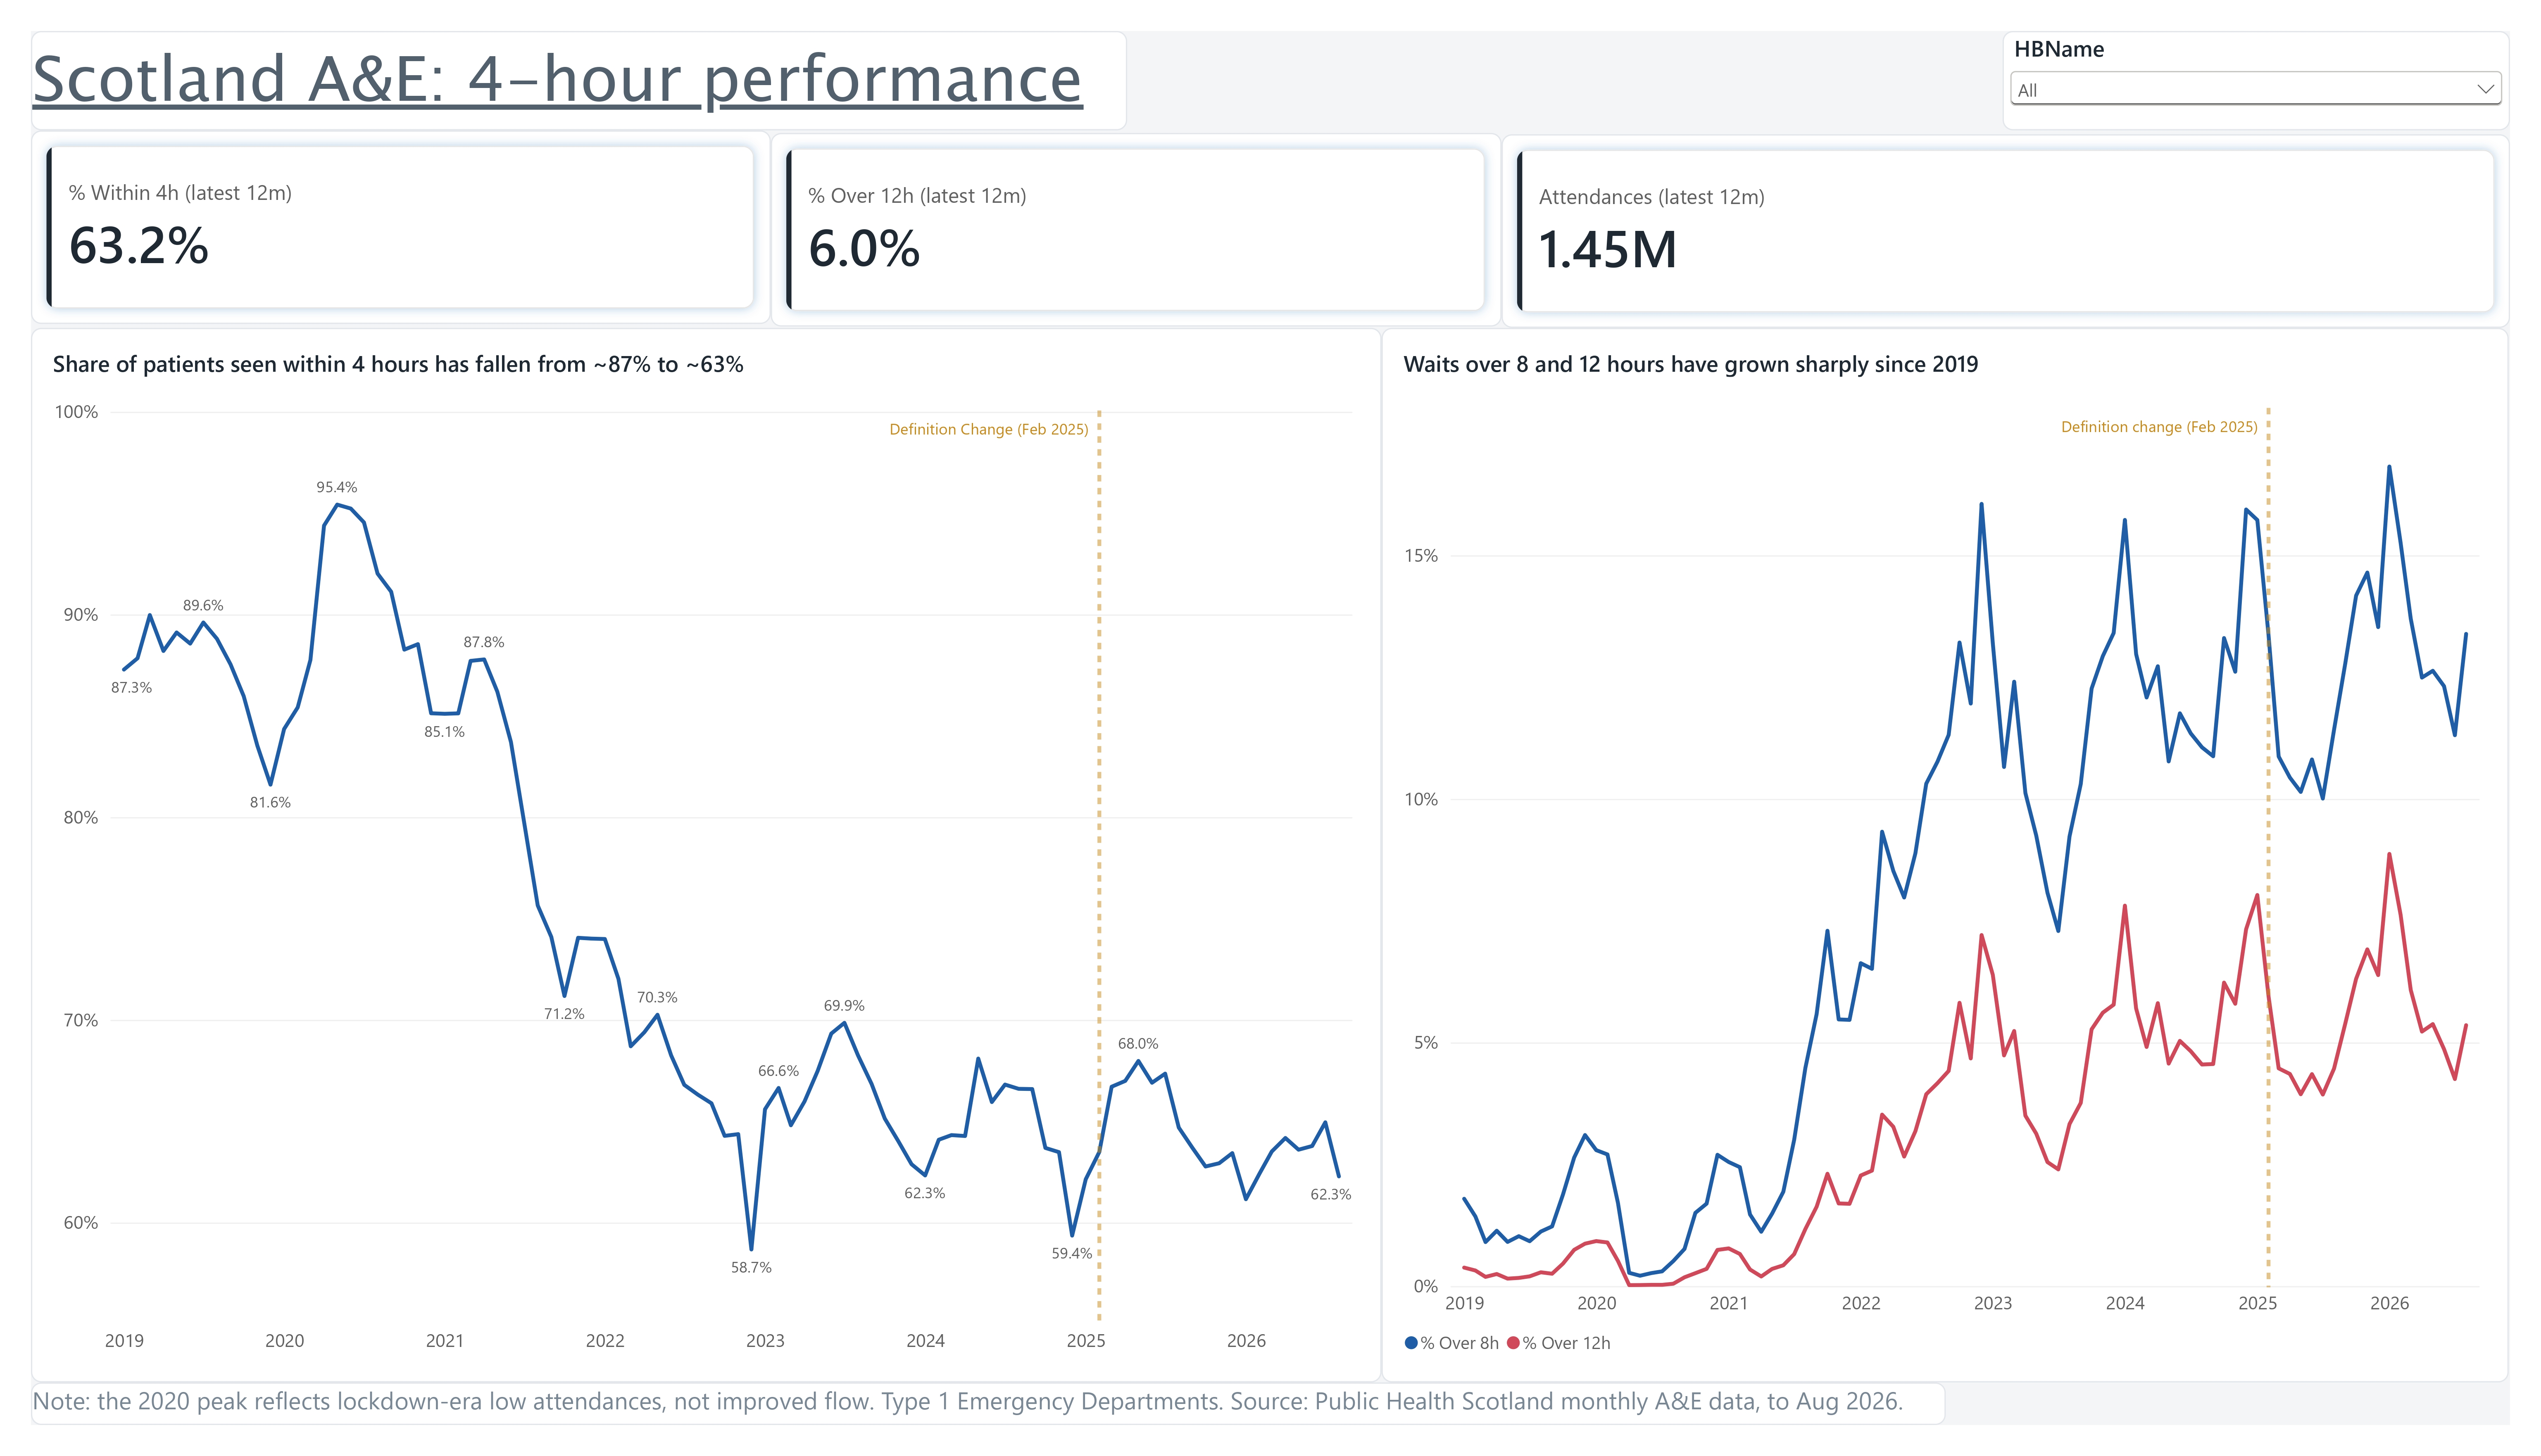

This screenshot's page, from the dashboard's own definition file:
{"tool":"powerbi","page":{"name":"Overview","canvas":[1920,1080],"ordinal":0},"visuals":[{"type":"lineChart","title":"Share of patients seen within 4 hours has fallen from ~87% to ~63%","fields":{"Category":["ae_clean.Month"],"Y":["ae_clean.% Within 4h"]},"box":[0,230,1045.7,817.1],"z":0},{"type":"slicer","fields":{"Values":["ae_clean.HBName"]},"box":[1527.1,0,392.9,77.1],"z":1000},{"type":"textbox","box":[0,1047.1,1482.9,32.9],"z":2000},{"type":"lineChart","title":"Waits over 8 and 12 hours have grown sharply since 2019","fields":{"Category":["ae_clean.Month"],"Y":["ae_clean.% Over 8h","ae_clean.% Over 12h"]},"box":[1045.7,230,872.9,817.1],"z":3000},{"type":"cardVisual","fields":{"Data":["ae_clean.% Over 12h (latest 12m)"]},"box":[572.9,78.6,565.7,150],"z":4000},{"type":"cardVisual","fields":{"Data":["ae_clean.Attendances (latest 12m)"]},"box":[1138.6,80,781.4,150],"z":5000},{"type":"cardVisual","fields":{"Data":["ae_clean.% Within 4h (latest 12m)"]},"box":[0,77.1,572.9,150],"z":6000},{"type":"textbox","box":[0,0,848.6,77.1],"z":7000}]}

Visuals, with their boxes on the page's 1920x1080 design canvas (x1, y1, x2, y2). These are canvas units, not pixel positions in the 2541x1456 screenshot, which may show the page scaled, cropped or inside an application window:
"Share of patients seen within 4 hours has fallen from ~87% to ~63%" lineChart: 0, 230, 1046, 1047
slicer - ae_clean.HBName: 1527, 0, 1920, 77
textbox: 0, 1047, 1483, 1080
"Waits over 8 and 12 hours have grown sharply since 2019" lineChart: 1046, 230, 1919, 1047
cardVisual - ae_clean.% Over 12h (latest 12m): 573, 79, 1139, 229
cardVisual - ae_clean.Attendances (latest 12m): 1139, 80, 1920, 230
cardVisual - ae_clean.% Within 4h (latest 12m): 0, 77, 573, 227
textbox: 0, 0, 849, 77
